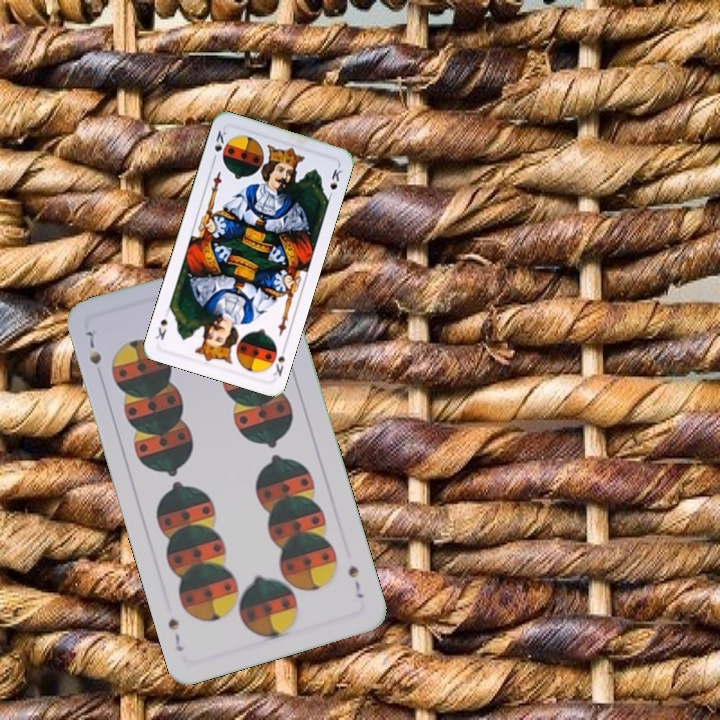S7: (82, 326, 104, 368), (344, 561, 367, 601)
SK: (208, 126, 231, 165), (269, 341, 289, 379)
